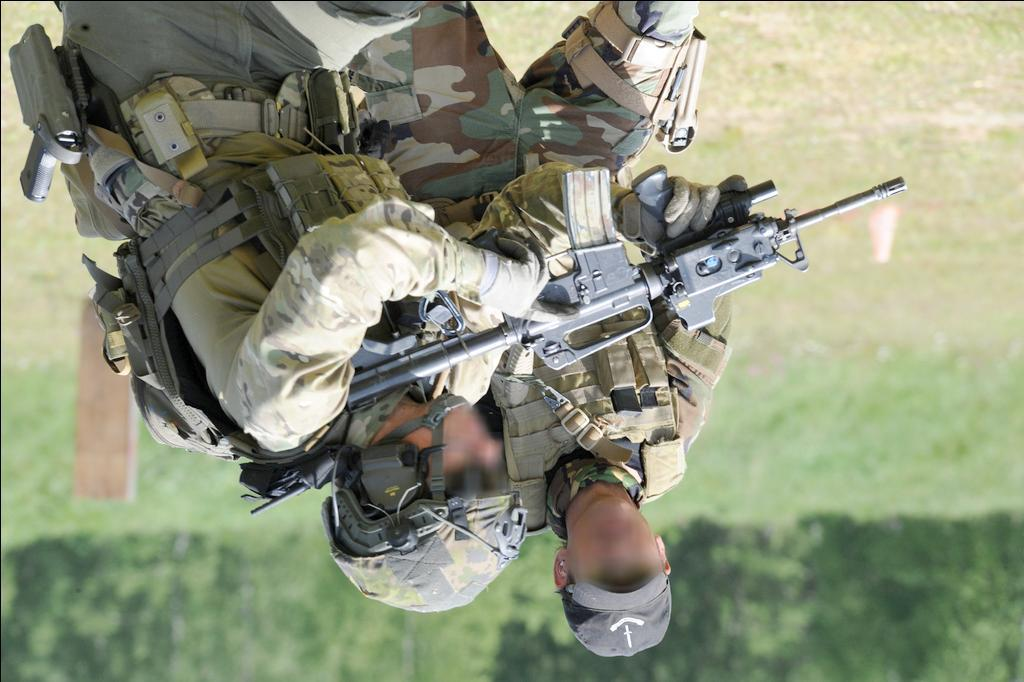gun: (347, 167, 904, 407)
